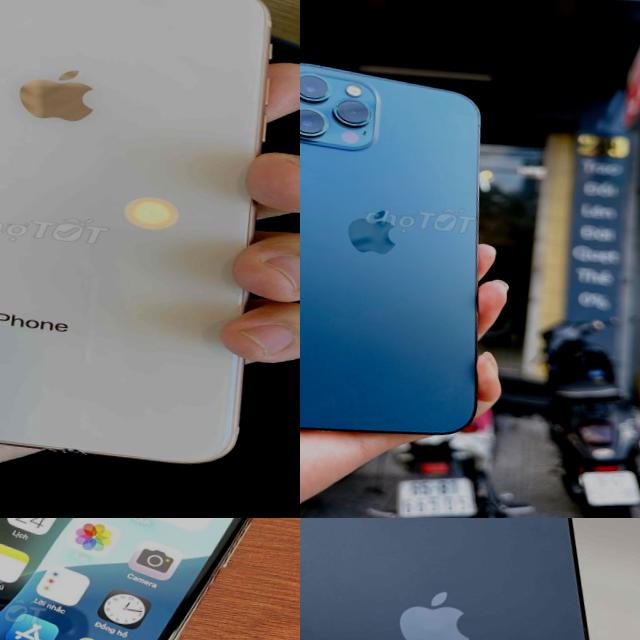gen_12_13: (300, 47, 520, 458)
gen_15: (300, 518, 640, 640)
gen_7_8: (0, 0, 300, 476)
gen_x_xs: (0, 518, 249, 640)
